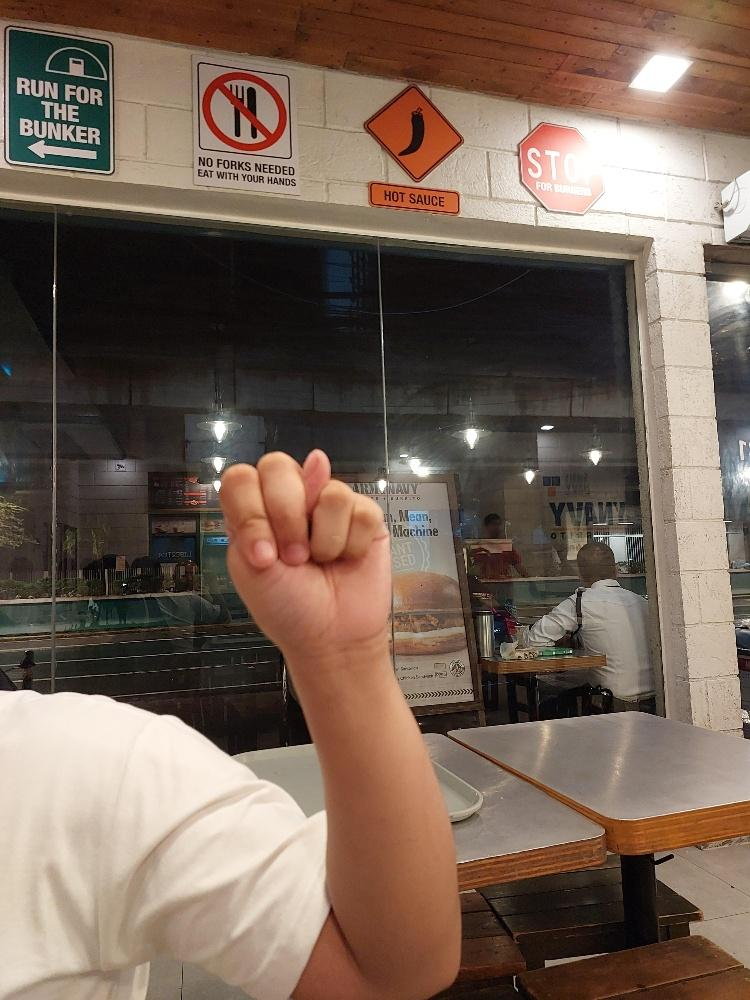n: (215, 445, 392, 649)
